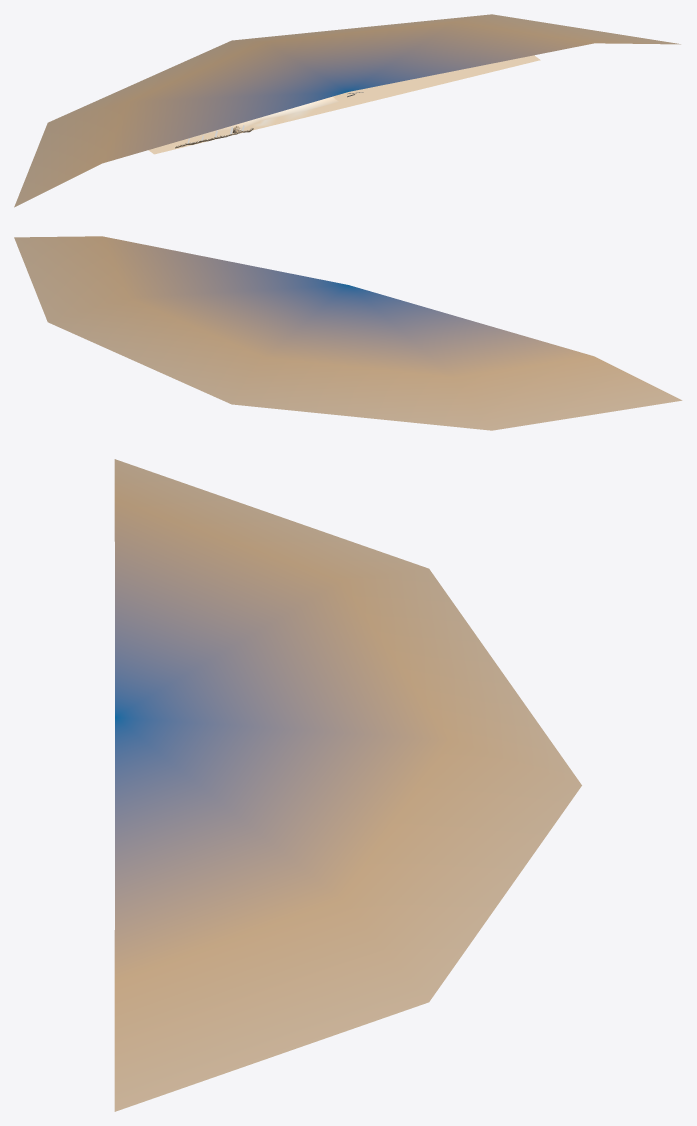
File: Desert 09.fbx
3 views of the same model, one above another, from view 1: azimuth 30°, elevation 25°; view 2: azimuth 150°, elevation 25°; view 3: azimuth 270°, elevation 25° (orthographic). The views are drawn at different scales.
Parts seen in each view (by area): view 1: Light_01, Bg; view 2: Light_01; view 3: Light_01.
Boxes of the visible parts, x1,y1,x2,y2 form: Light_01: (14,14,680,207); Bg: (148,55,540,154); Light_01: (14,236,682,430); Light_01: (114,459,581,1111).
Size of the model in its own units: 983996 by 47831 by 297667.
